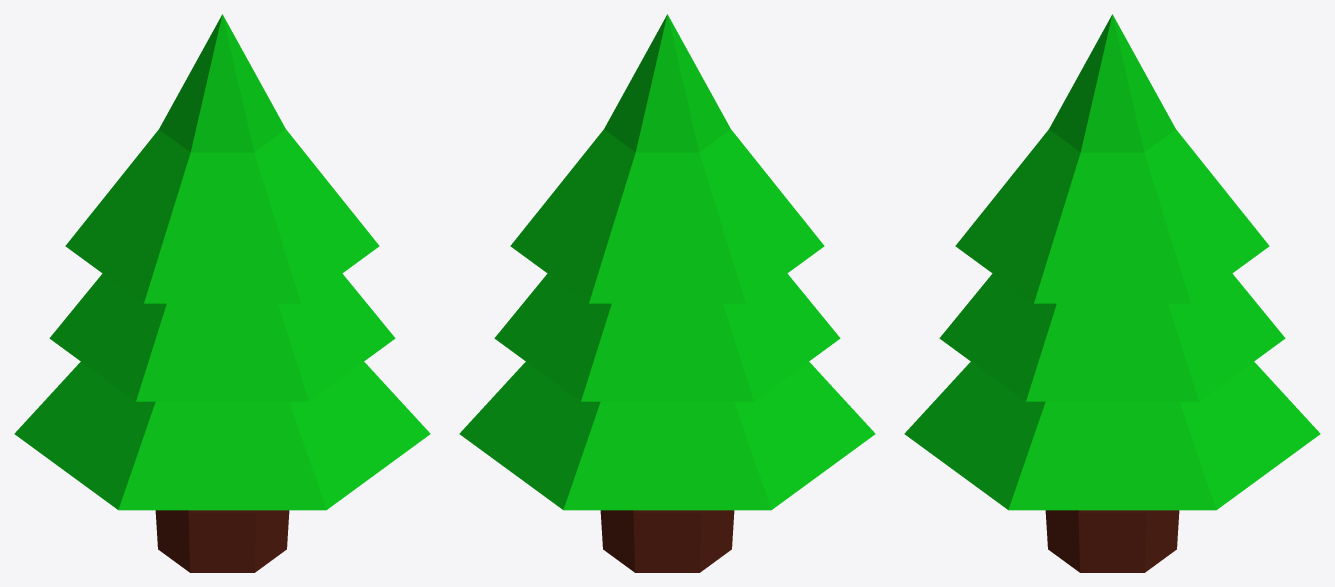
File: tree_b_green.obj
The picture shows the model from 3 angles, left to right: view 1: azimuth 30°, elevation 25°; view 2: azimuth 150°, elevation 25°; view 3: azimuth 270°, elevation 25°; orthographic projection.
Parts seen in each view (by area): view 1: treetop_b_green_Cylinder.003, trunk_b_green_Cylinder.002; view 2: treetop_b_green_Cylinder.003, trunk_b_green_Cylinder.002; view 3: treetop_b_green_Cylinder.003, trunk_b_green_Cylinder.002.
Part boxes in pixels (x1,y1,x2,y2): treetop_b_green_Cylinder.003: (14, 14, 430, 510); trunk_b_green_Cylinder.002: (155, 510, 289, 572); treetop_b_green_Cylinder.003: (459, 14, 875, 510); trunk_b_green_Cylinder.002: (600, 510, 734, 572); treetop_b_green_Cylinder.003: (904, 14, 1320, 510); trunk_b_green_Cylinder.002: (1045, 510, 1179, 572).
Size of the model in its own units: 5.6 by 9.16 by 6.46.
